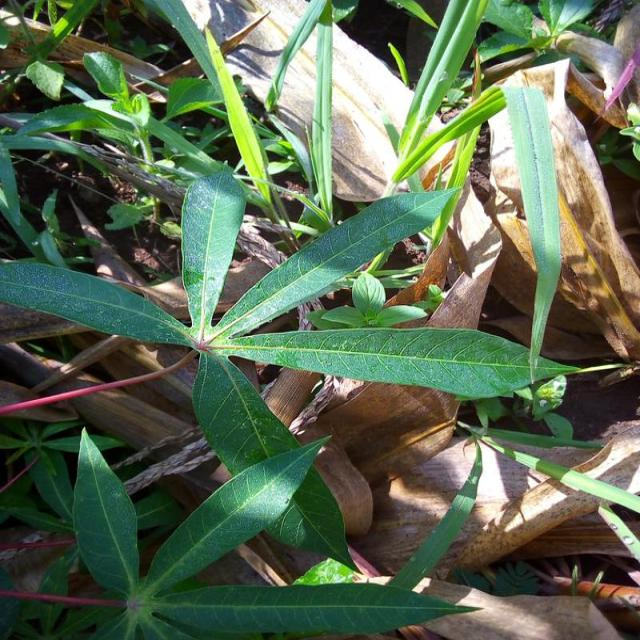cassava leaf: (70, 426, 140, 600), (180, 164, 247, 343)
